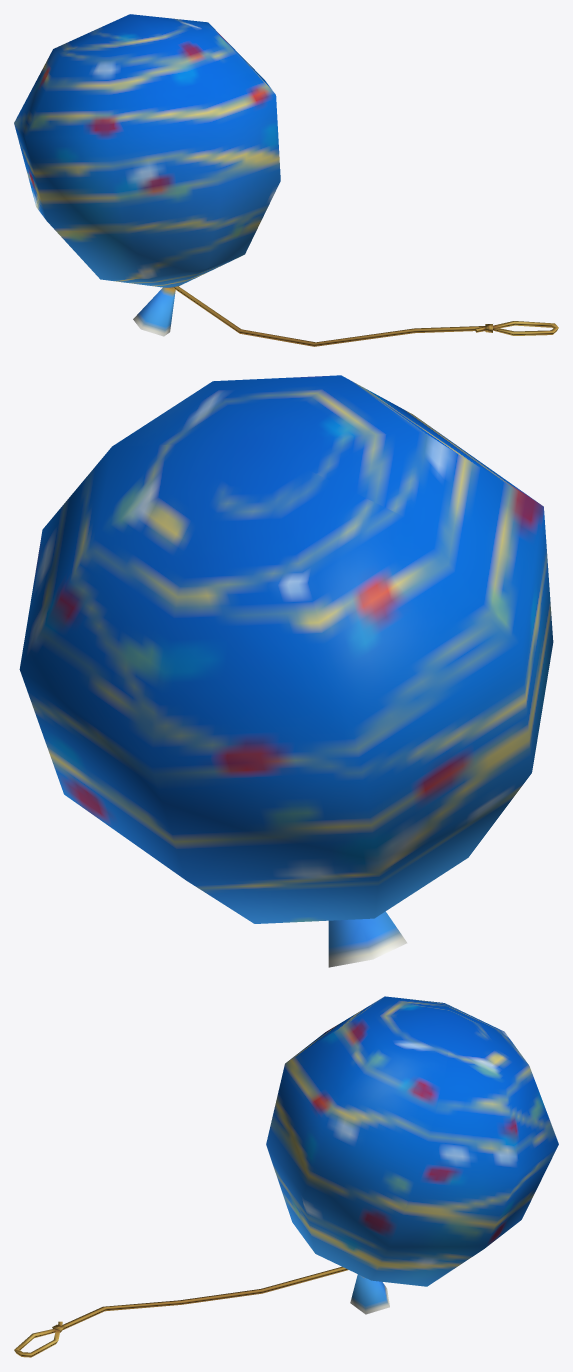
The model's file is jsf_WaterBalloon_02_d.fbx.
3 renders of one model, top to bottom at view 1: azimuth 30°, elevation 25°; view 2: azimuth 150°, elevation 25°; view 3: azimuth 270°, elevation 25°, orthographic. The views are drawn at different scales.
Visible parts, largest first — view 1: jsf_WaterBalloon_02_d; view 2: jsf_WaterBalloon_02_d; view 3: jsf_WaterBalloon_02_d.
Boxes of the visible parts, left/top/right/bottom form: jsf_WaterBalloon_02_d: left=14, top=14, right=558, bottom=346; jsf_WaterBalloon_02_d: left=19, top=375, right=553, bottom=967; jsf_WaterBalloon_02_d: left=14, top=996, right=558, bottom=1357.
Bounding box in the file's own units: 15.63 × 12.55 × 20.67.
